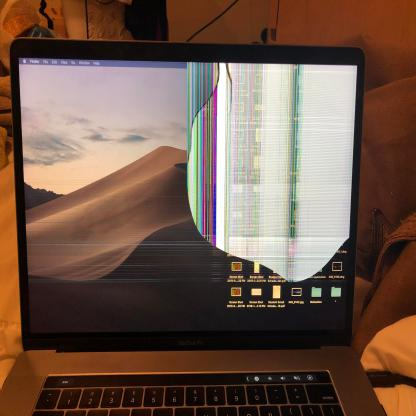crack: (182, 60, 356, 311)
lines: (28, 230, 353, 323), (188, 64, 355, 243)
